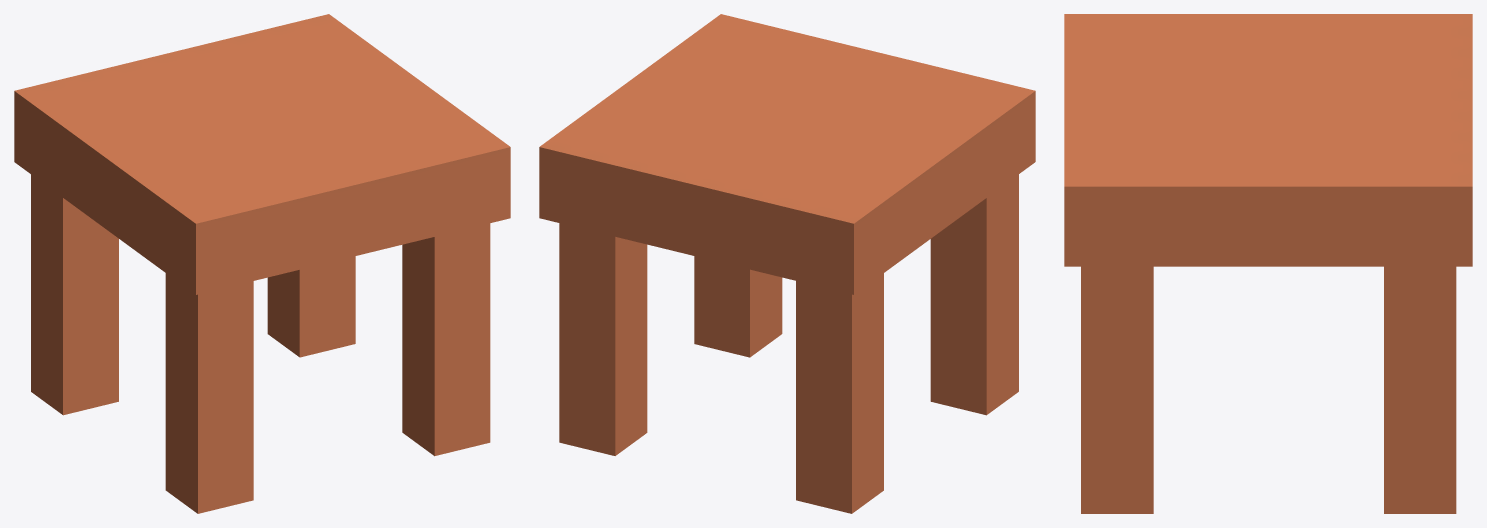
Rendered from Chair2.glb.
3 renders of one model, left to right at view 1: azimuth 30°, elevation 25°; view 2: azimuth 150°, elevation 25°; view 3: azimuth 270°, elevation 25°, orthographic. The views are drawn at different scales.
Visible parts, largest first — view 1: Cube.171; view 2: Cube.171; view 3: Cube.171.
Boxes of the visible parts, <box> form: Cube.171: <box>14,14,510,513</box>; Cube.171: <box>539,14,1035,513</box>; Cube.171: <box>1064,14,1472,513</box>.
Bounding box in the file's own units: 0.3602 × 0.3257 × 0.3602.
1 material, 1 textured.
